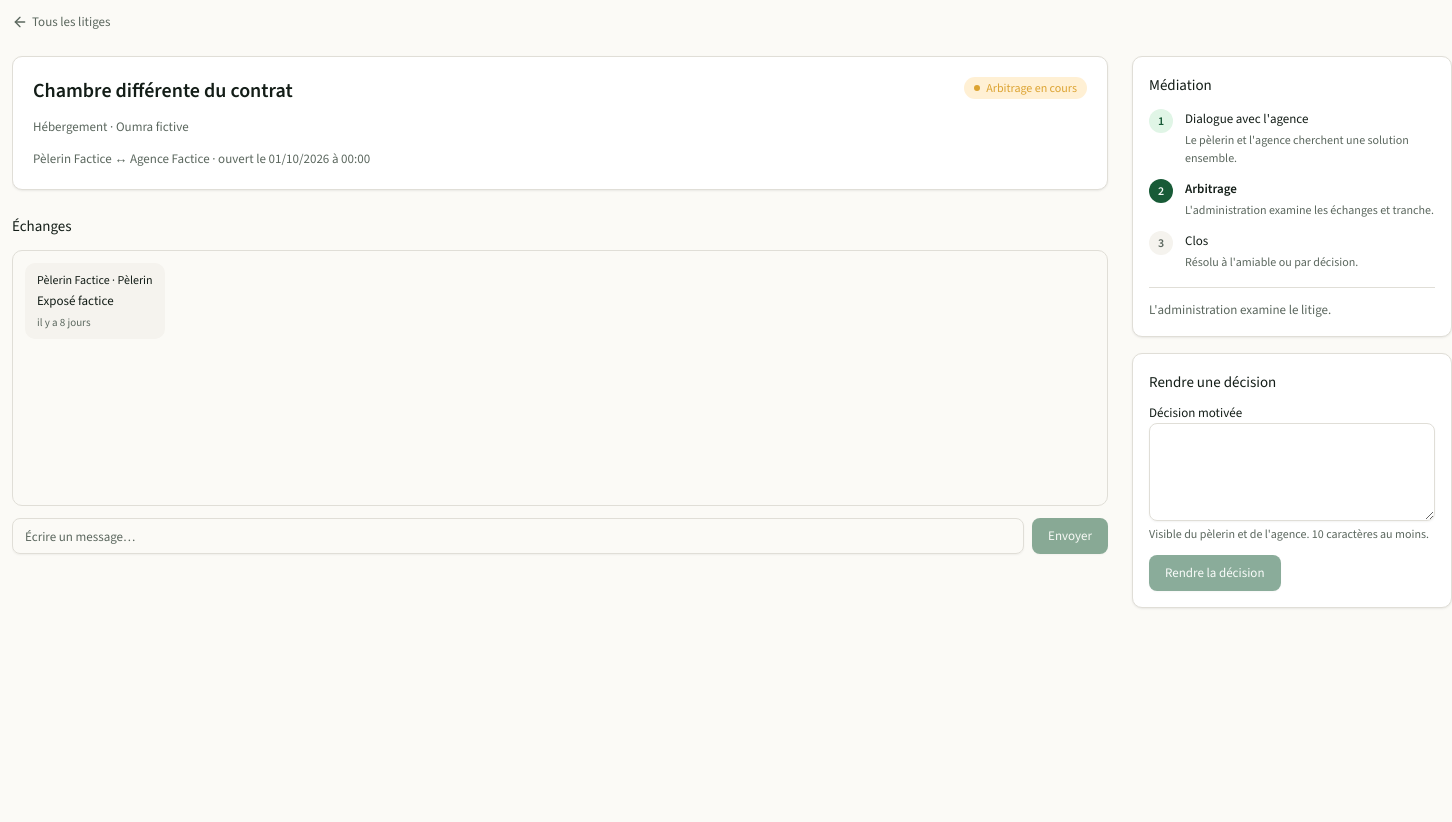
DisputeDetailScreen (idée #62) › laisse l'administration trancher un litige escaladé
The width and height of the screenshot is (1452, 822).
Step 1. Type "Décision factice motivée" into the text box labelled "Décision motivée" → (1292, 472), box x1=1149 y1=423 x2=1435 y2=521
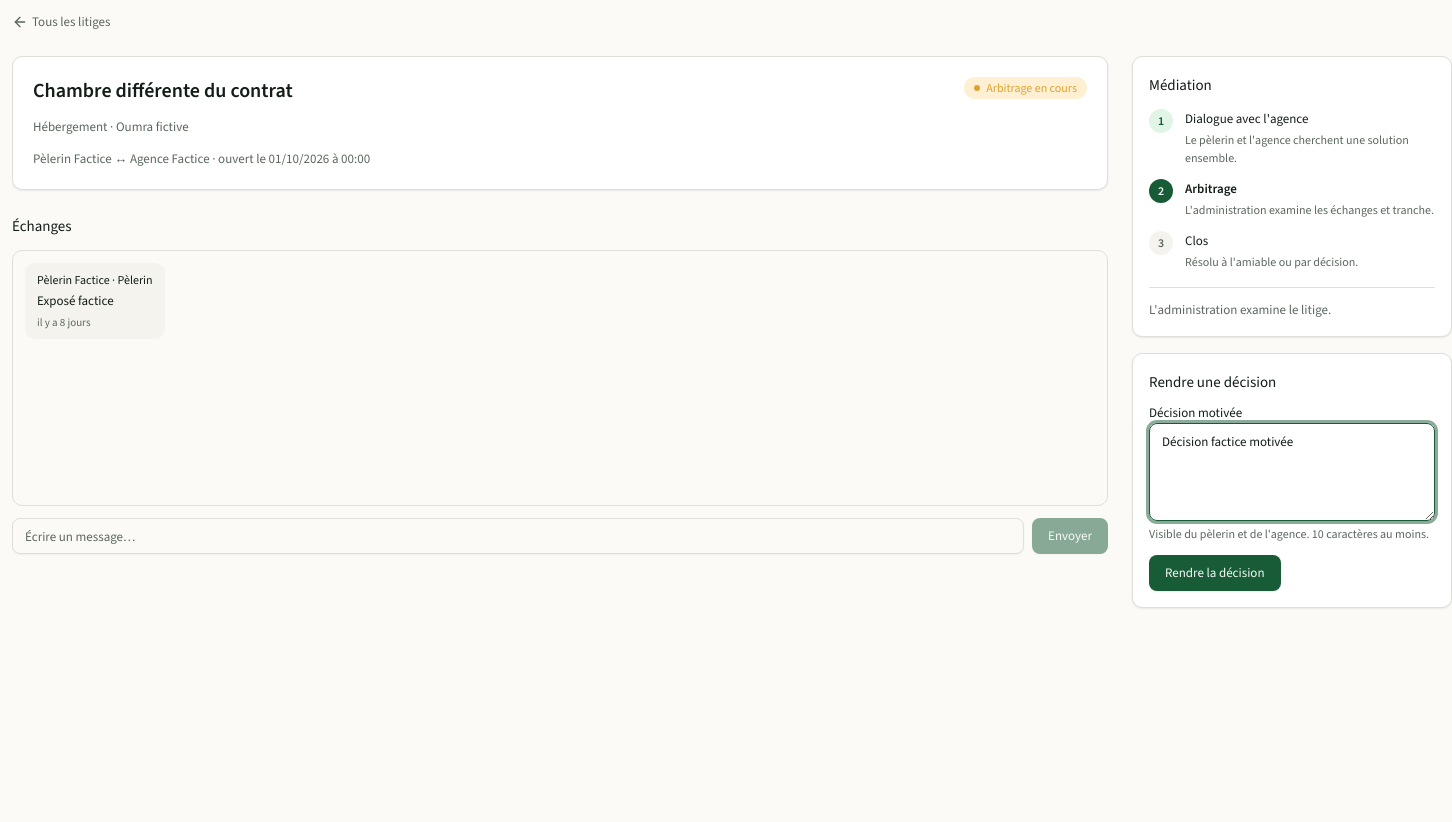
Step 2. Click the button "Rendre la décision" → (1215, 573), box x1=1149 y1=555 x2=1280 y2=591
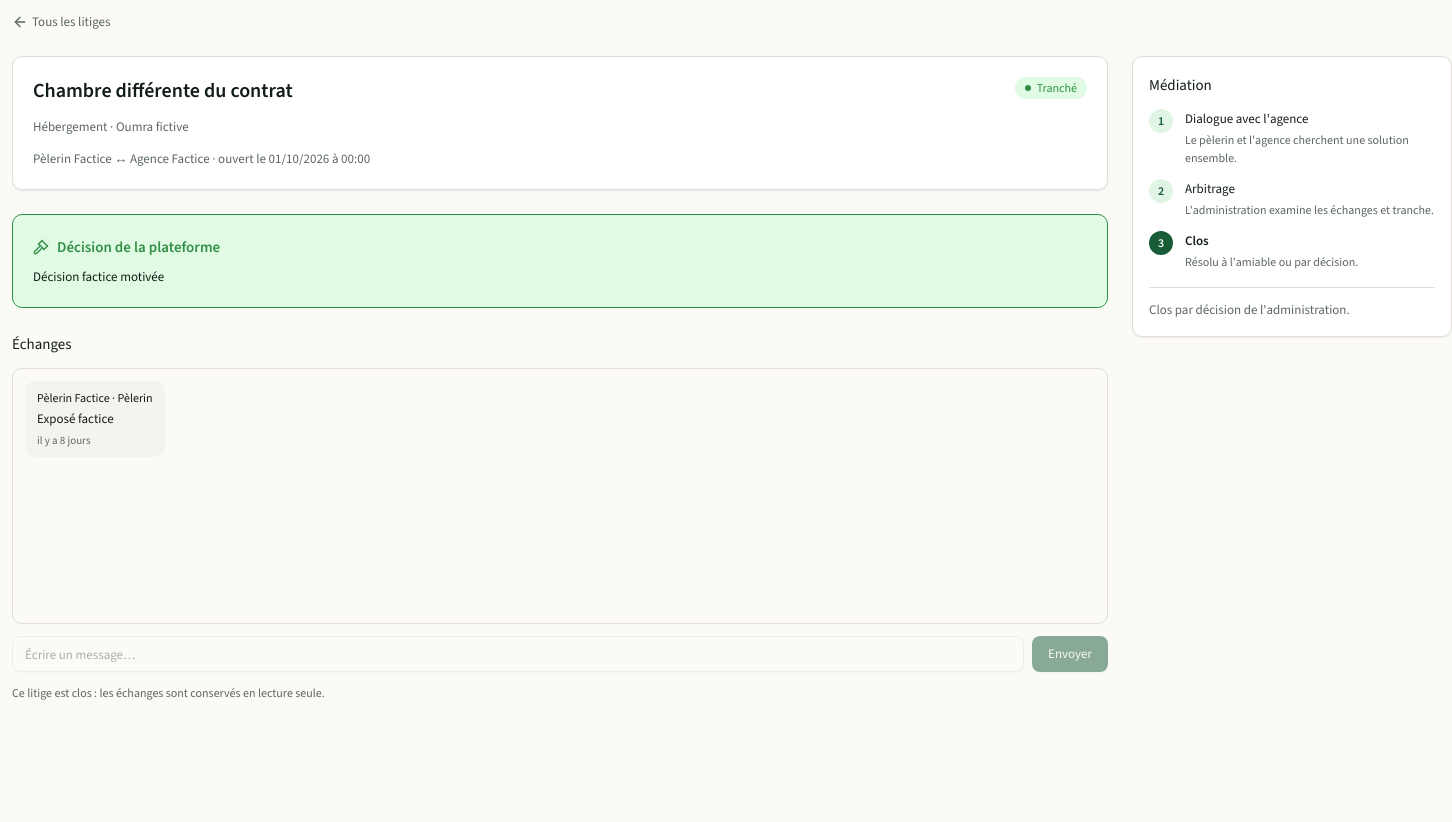
Result: the heading "Décision de la plateforme" is shown at x1=33 y1=237 x2=220 y2=257
